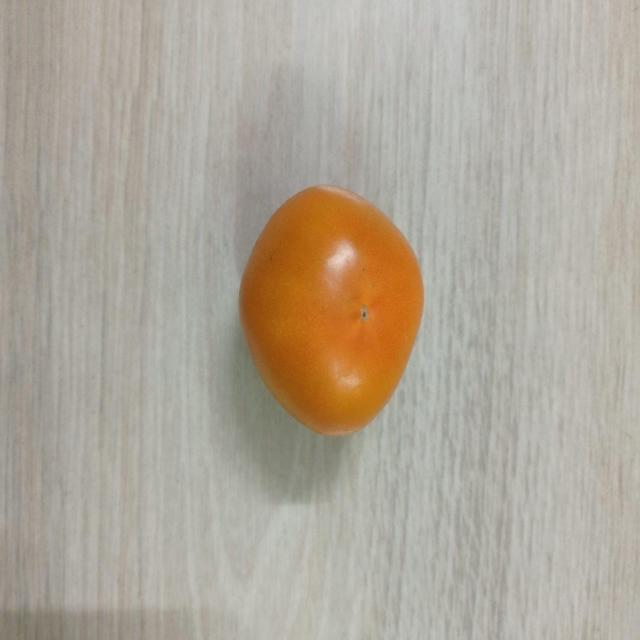Tomato: (238, 179, 427, 441)
